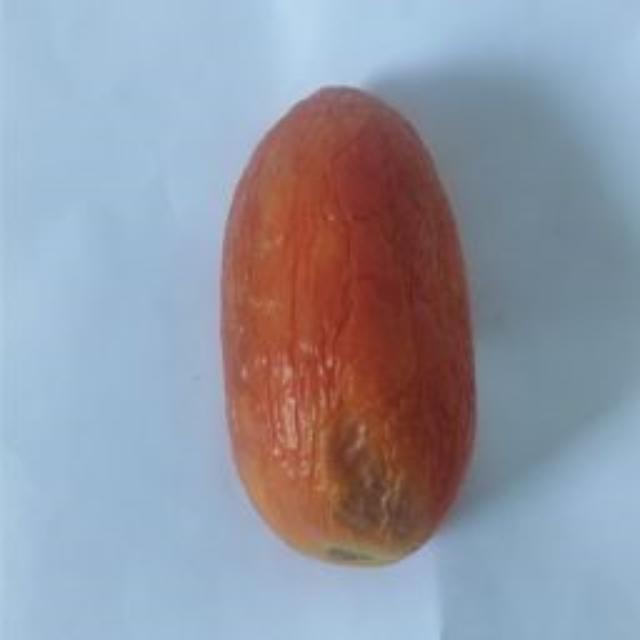defect: (221, 86, 480, 570)
